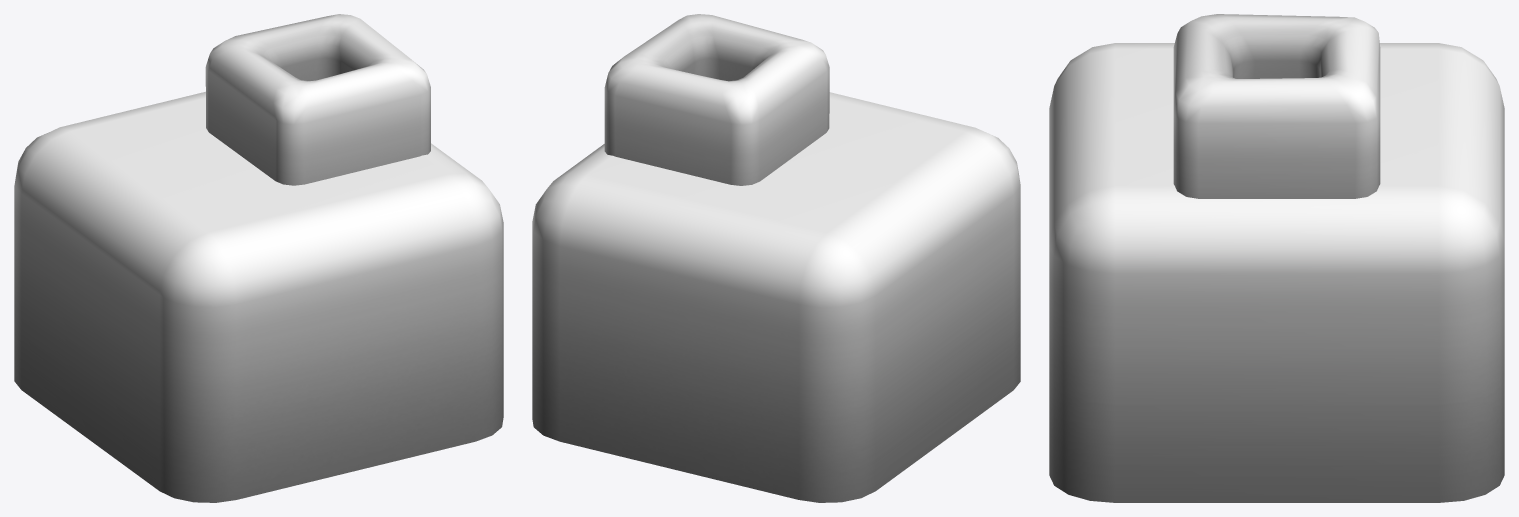
The model's file is Area.fbx.
3 renders of one model, left to right at view 1: azimuth 30°, elevation 25°; view 2: azimuth 150°, elevation 25°; view 3: azimuth 270°, elevation 25°, orthographic. The views are drawn at different scales.
Visible parts, largest first — view 1: Area; view 2: Area; view 3: Area.
Boxes of the visible parts, x1,y1,x2,y2 form: Area: (14, 14, 503, 502); Area: (532, 14, 1020, 502); Area: (1049, 14, 1504, 502).
Bounding box in the file's own units: 300 × 284 × 300.
Materials: 1 (1 with a texture image).
